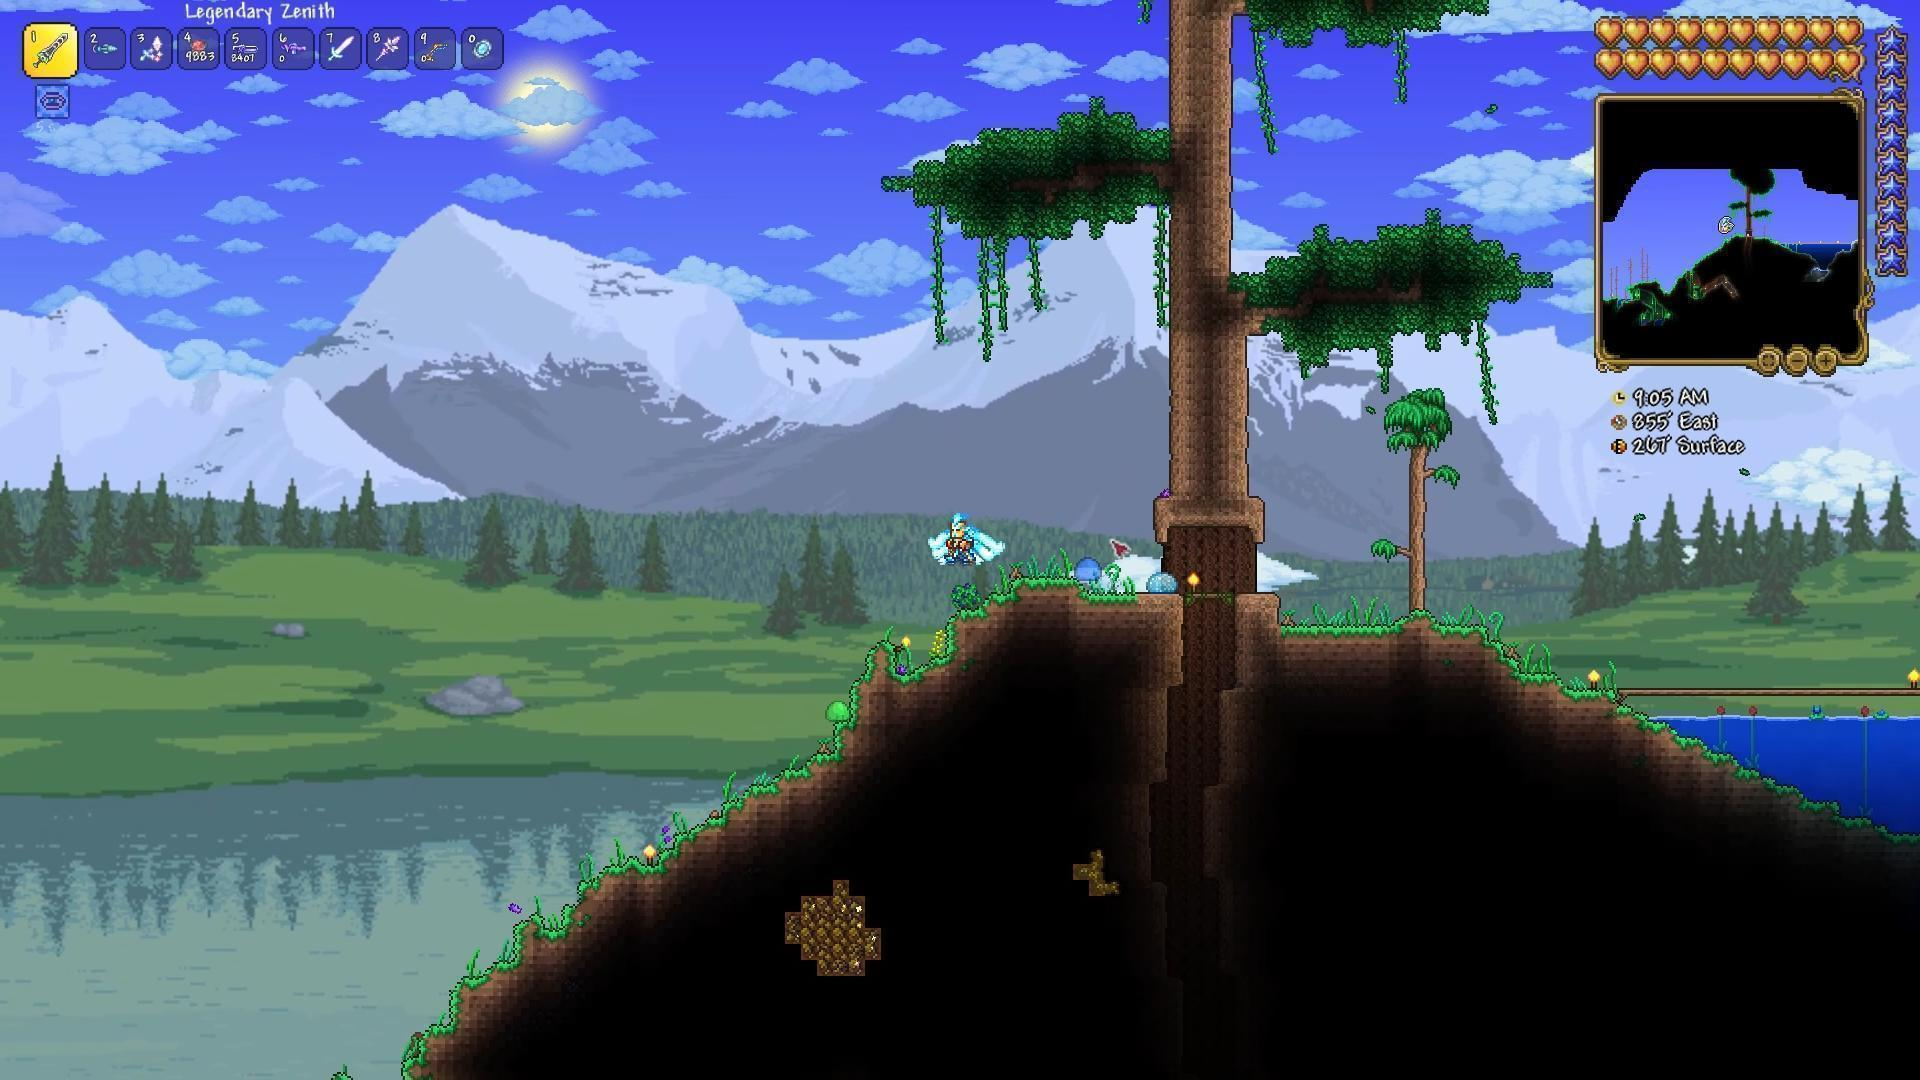slime: (1142, 567, 1182, 603), (1073, 553, 1105, 584), (822, 699, 855, 723)
